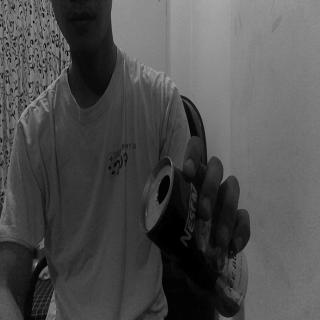alumunium_can: (140, 154, 250, 320)
